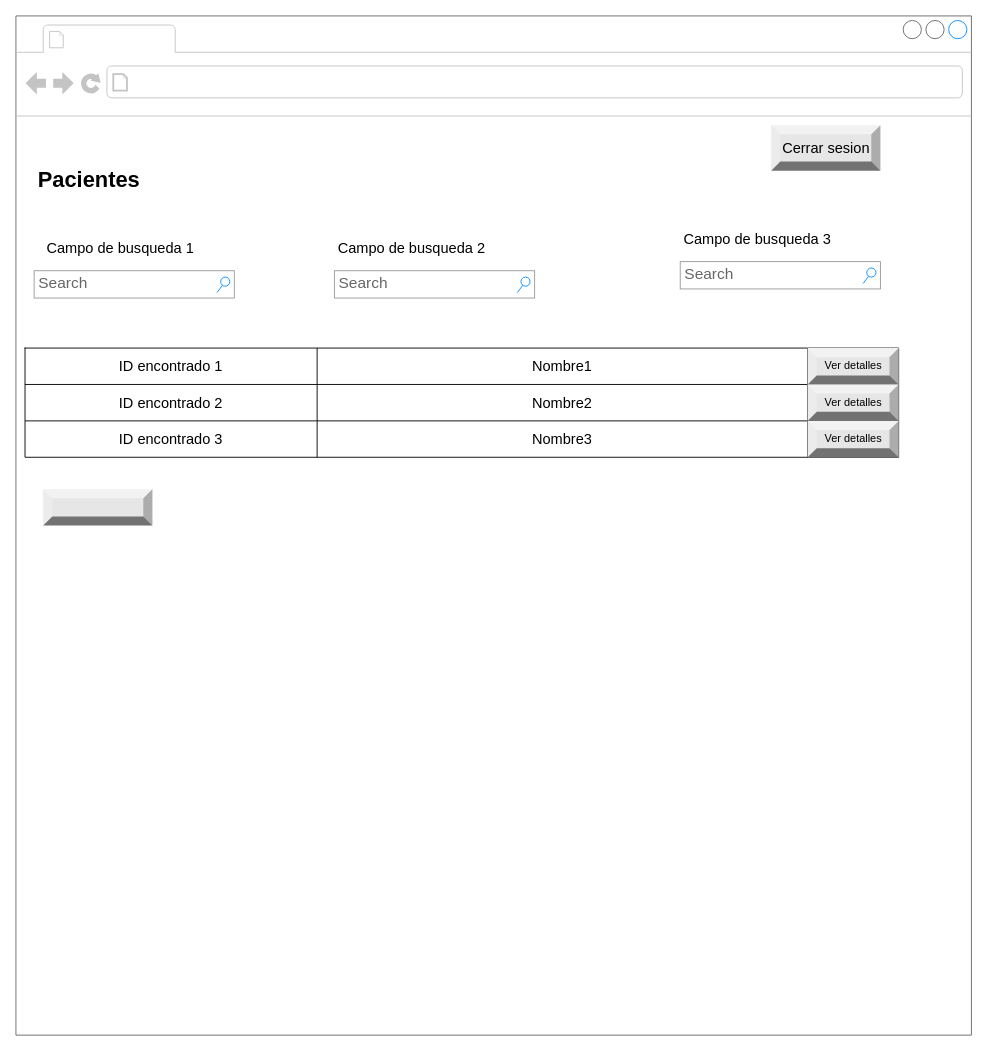
Image size: 987x1051. Some labels were removed from this diagram. The box of each missing label's shape, as (x1, y1, x2, y2) in pixels:
Crear Nuevo: (43, 489, 152, 525)
https://www.default.com: (133, 70, 362, 94)
Page 1: (70, 26, 171, 51)
